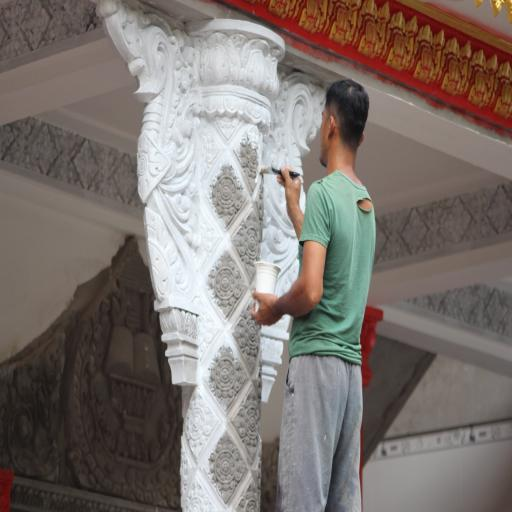hoa: (206, 158, 246, 224), (213, 247, 245, 314), (185, 390, 216, 449), (207, 442, 243, 492), (210, 348, 241, 404), (235, 393, 263, 450), (239, 306, 262, 362), (193, 310, 220, 355), (194, 119, 216, 174), (236, 216, 260, 265), (180, 480, 209, 512), (243, 136, 262, 184), (177, 438, 191, 490), (219, 112, 239, 138), (240, 491, 261, 512)
la: (432, 22, 464, 93), (408, 12, 436, 84), (201, 33, 237, 87), (237, 34, 271, 91), (384, 3, 410, 73), (489, 48, 512, 118), (358, 0, 386, 57), (468, 36, 489, 111), (326, 0, 354, 42), (297, 0, 325, 35), (269, 0, 292, 22)
